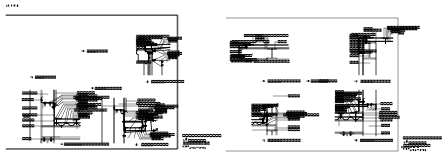door: (135, 24, 172, 45), (265, 118, 321, 122), (158, 103, 168, 122), (405, 126, 439, 130), (405, 48, 420, 57), (373, 40, 405, 44), (391, 45, 400, 59), (56, 38, 64, 53), (56, 33, 85, 37), (405, 123, 438, 126), (292, 48, 308, 54), (373, 37, 405, 40), (166, 97, 177, 105), (56, 30, 85, 33), (159, 118, 187, 121), (41, 10, 56, 15), (43, 50, 54, 56), (165, 25, 171, 36), (297, 42, 307, 48), (297, 112, 307, 118), (279, 31, 298, 34), (159, 121, 187, 123), (297, 20, 307, 25), (297, 107, 307, 112), (166, 105, 171, 115), (56, 30, 71, 33), (390, 37, 405, 40), (379, 19, 394, 22), (159, 35, 170, 39), (265, 107, 269, 118), (125, 43, 133, 48), (135, 35, 155, 37), (135, 32, 155, 34), (139, 16, 142, 27), (158, 115, 162, 122), (163, 122, 187, 123), (146, 16, 148, 27), (149, 115, 158, 117), (159, 117, 176, 118), (405, 57, 407, 61), (58, 31, 59, 38), (396, 38, 397, 45), (400, 57, 407, 58), (135, 46, 137, 48), (413, 130, 417, 131), (169, 114, 170, 118), (56, 50, 57, 53), (53, 51, 56, 52), (166, 42, 169, 43), (399, 56, 400, 59), (431, 129, 434, 130), (427, 129, 430, 130), (399, 111, 400, 114), (169, 122, 172, 123), (168, 115, 169, 118), (50, 55, 52, 56), (50, 56, 52, 57), (51, 13, 53, 14), (51, 15, 53, 16), (43, 15, 45, 16), (80, 36, 82, 37), (167, 36, 168, 38), (291, 37, 293, 38), (272, 122, 274, 123), (264, 108, 265, 110), (396, 35, 397, 37), (382, 20, 384, 21), (390, 20, 392, 21), (390, 22, 392, 23), (382, 22, 384, 23), (407, 130, 409, 131), (45, 55, 46, 56), (45, 56, 46, 57), (63, 30, 64, 31), (44, 13, 45, 14), (167, 35, 168, 36), (135, 18, 136, 19), (133, 18, 134, 19), (126, 48, 127, 49), (130, 48, 131, 49), (134, 34, 135, 35), (158, 34, 159, 35), (159, 34, 160, 35), (272, 118, 273, 119), (272, 122, 273, 123), (396, 45, 397, 46), (414, 53, 415, 54), (410, 53, 411, 54), (430, 125, 431, 126), (430, 129, 431, 130), (168, 115, 169, 116), (168, 114, 169, 115), (163, 107, 164, 108), (170, 114, 171, 115), (54, 55, 55, 55), (41, 59, 43, 59), (64, 28, 64, 30), (51, 14, 53, 14), (43, 14, 46, 14), (81, 37, 84, 37), (77, 37, 80, 37), (81, 31, 81, 32), (81, 32, 81, 34), (80, 37, 81, 37), (58, 38, 59, 38), (57, 38, 59, 38), (60, 38, 64, 38), (168, 24, 169, 24), (168, 25, 169, 25), (167, 36, 168, 36), (172, 25, 172, 27), (126, 47, 127, 47), (131, 47, 131, 47), (134, 34, 134, 35), (135, 43, 135, 45), (131, 44, 134, 44), (133, 47, 134, 47), (123, 50, 124, 50), (156, 30, 161, 30), (162, 39, 162, 40), (162, 38, 162, 39), (161, 42, 163, 42), (135, 28, 137, 28), (154, 28, 155, 28), (293, 51, 293, 53), (293, 52, 299, 52), (294, 42, 298, 42), (278, 122, 281, 122), (265, 109, 272, 109), (396, 37, 397, 37), (382, 21, 384, 21), (390, 21, 392, 21), (376, 44, 379, 44), (379, 44, 381, 44), (380, 44, 383, 44), (380, 38, 380, 39), (380, 39, 380, 41), (379, 44, 380, 44), (396, 45, 398, 45), (391, 45, 395, 45), (414, 55, 415, 55), (410, 55, 411, 55), (408, 123, 408, 124), (408, 126, 408, 127), (408, 125, 408, 126), (408, 124, 408, 125), (408, 131, 409, 131), (400, 113, 407, 113), (430, 129, 431, 129), (430, 124, 431, 124), (164, 113, 165, 113), (165, 113, 166, 113), (166, 112, 168, 112), (169, 118, 170, 118), (167, 118, 167, 118), (167, 114, 167, 118), (160, 115, 161, 115), (166, 119, 166, 120), (166, 118, 166, 119), (185, 123, 187, 123), (165, 122, 166, 122)
wall: (1, 3, 195, 156), (251, 1, 445, 153)
window: (263, 107, 268, 111), (399, 111, 403, 115), (55, 51, 57, 54), (399, 57, 401, 59), (293, 52, 294, 54), (399, 56, 401, 57), (399, 113, 401, 114), (45, 53, 46, 54), (51, 53, 52, 54), (126, 45, 127, 46), (134, 43, 135, 44), (264, 109, 265, 110), (264, 110, 265, 111), (410, 50, 411, 51), (414, 50, 415, 51), (131, 45, 131, 46), (400, 114, 400, 114)
